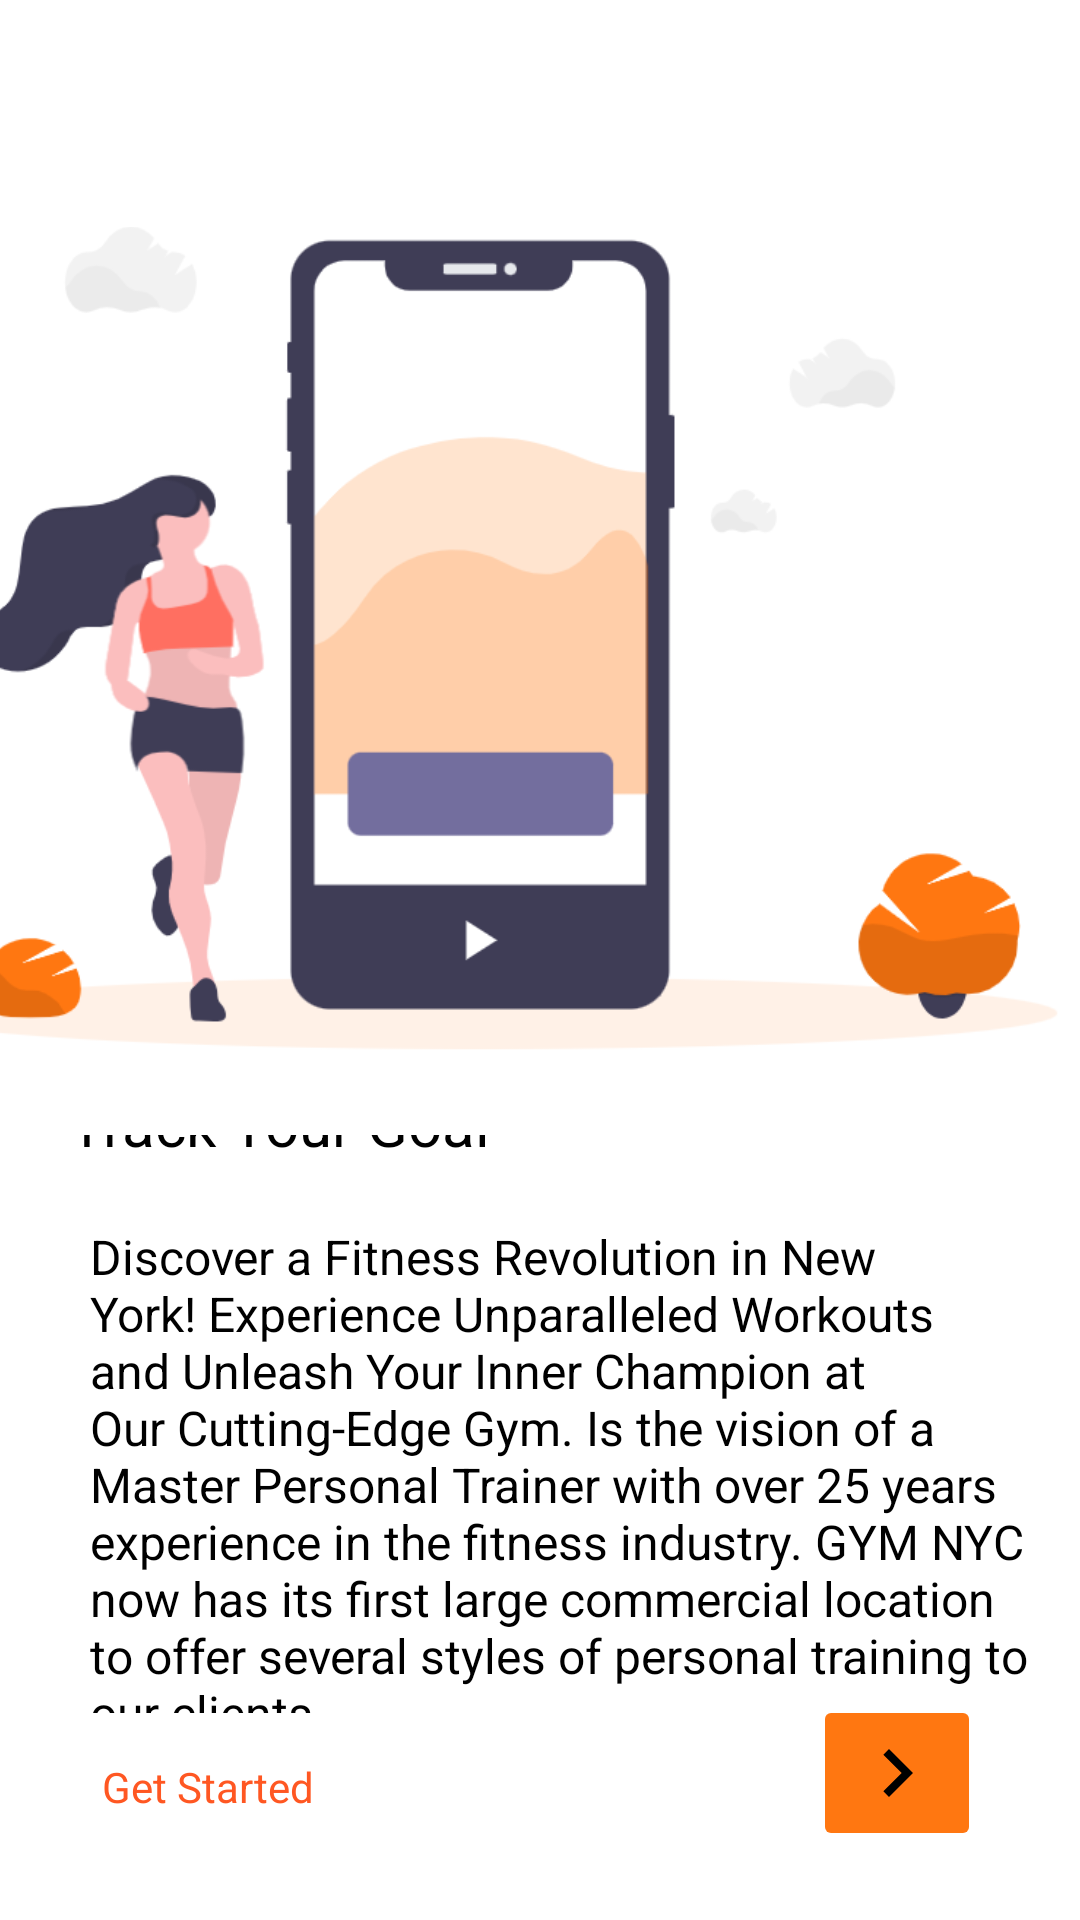

Point at icon controls on the screen. Image size 1080px×1920px, points as [x,y].
chevron right: [897,1773]
